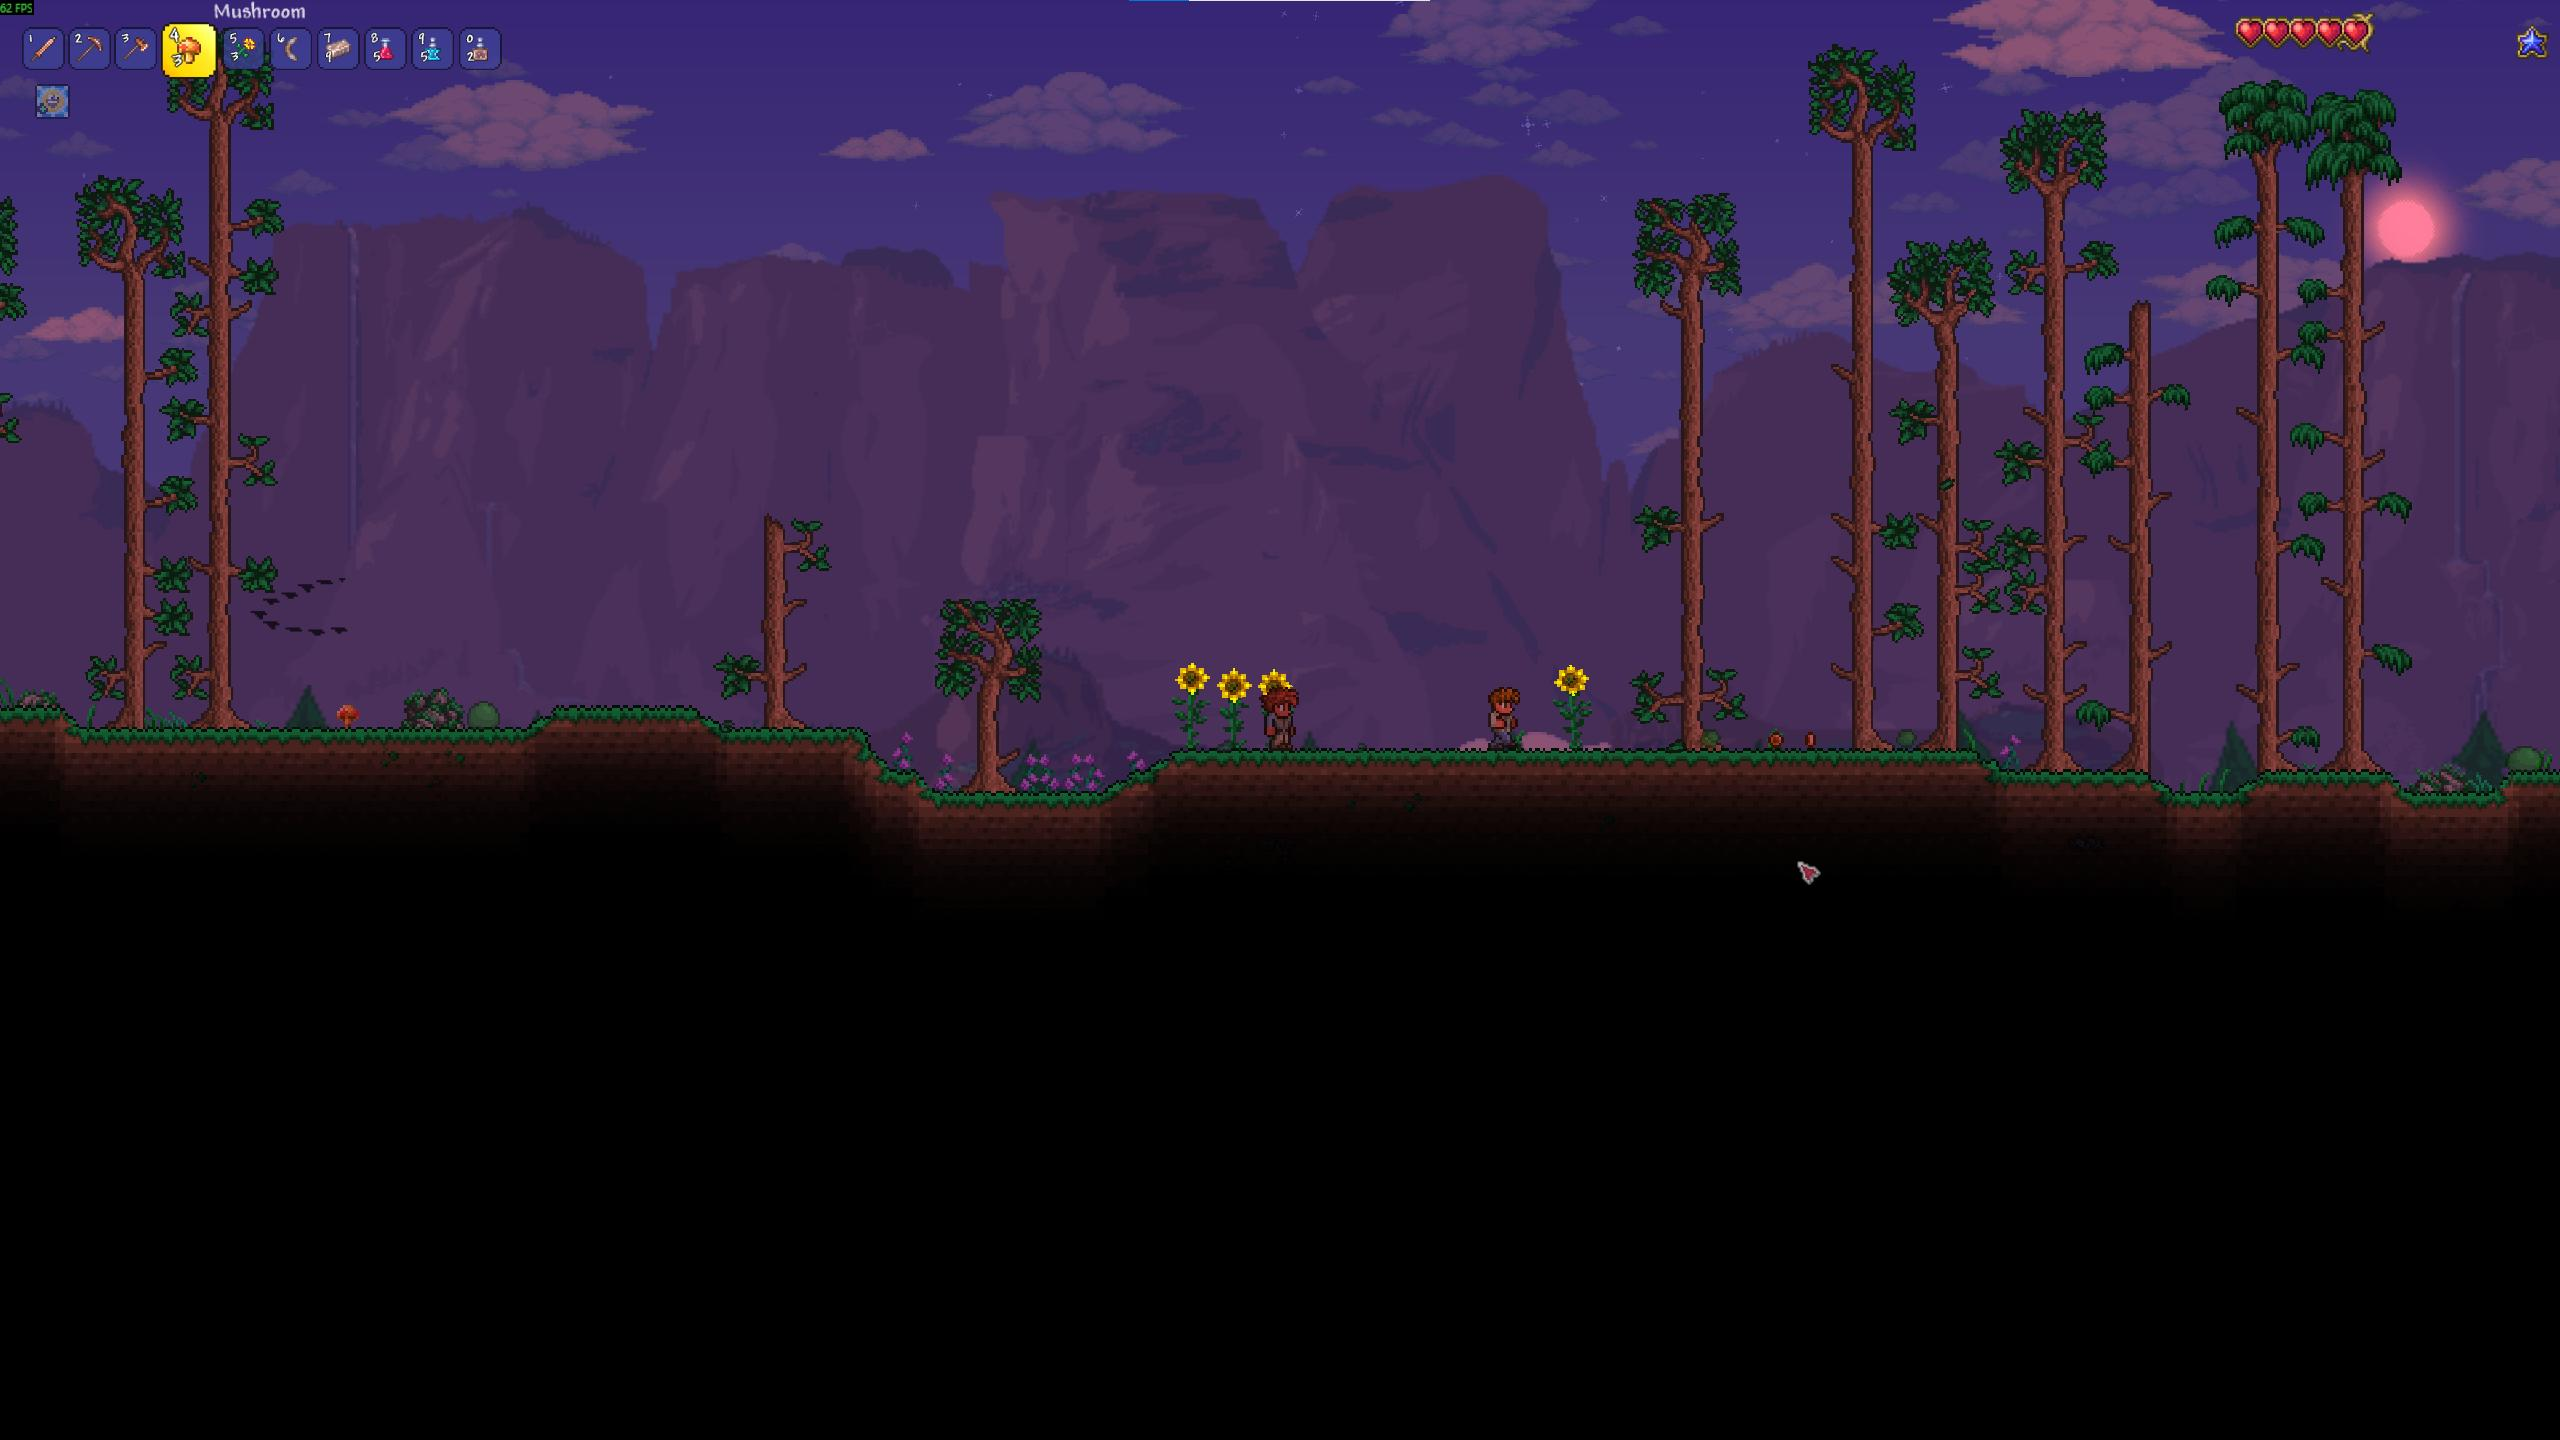Green Slime: (2504, 742, 2548, 779), (464, 696, 505, 735)
